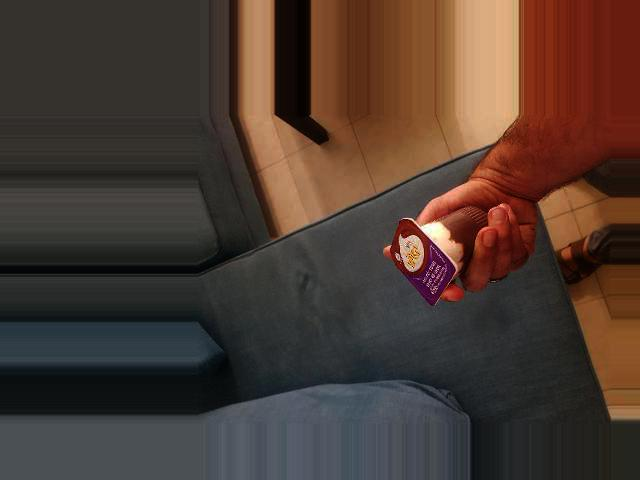milky: (326, 302, 422, 411)
